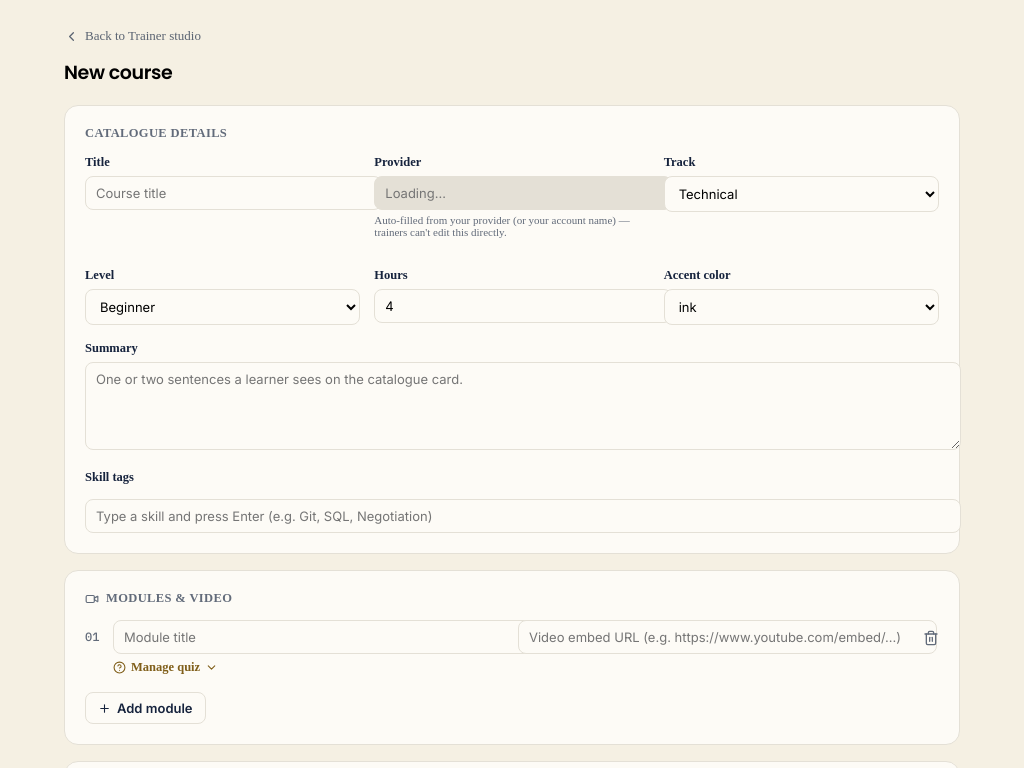
Test: TrainerCourseEditor — skills tag input › adds a skill chip on Enter and clears the input
Expected: the field with placeholder "Course title" is shown, [85,176,382,210]
Type "SQL" into the field with placeholder "Type a skill and press Enter (e.g. Git, SQL, Negotiation)" at x=523, y=516, box [85,499,961,533]
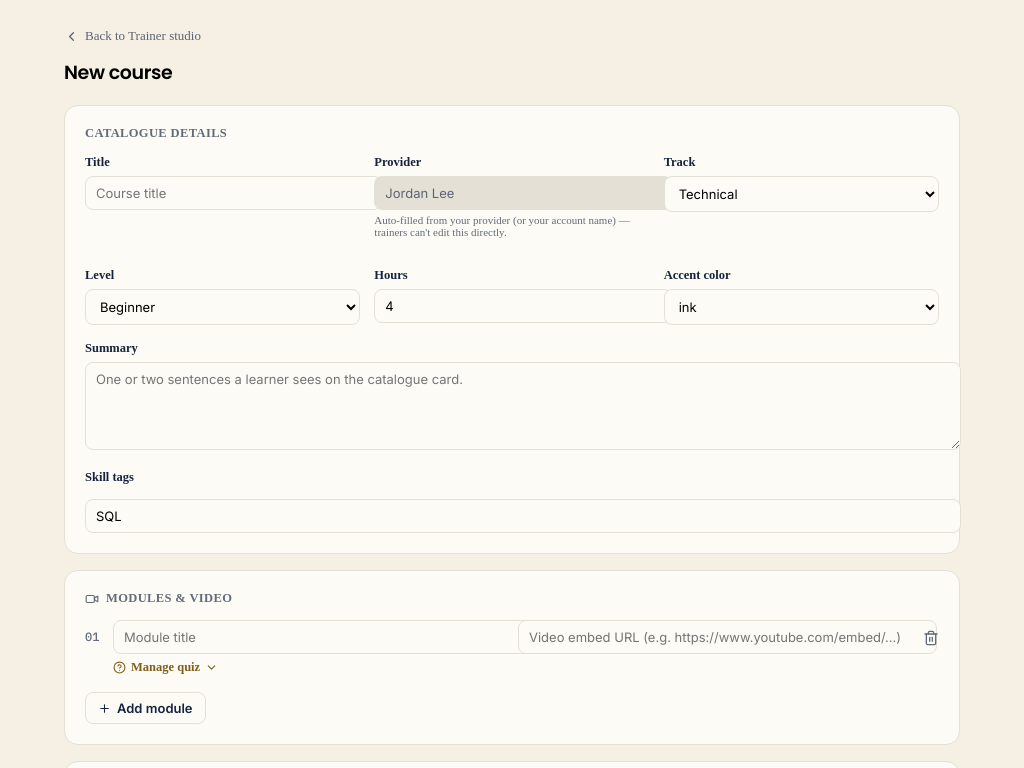
Press Enter in the field with placeholder "Type a skill and press Enter (e.g. Git, SQL, Negotiation)" below "Skill tags", box [85,499,961,533]
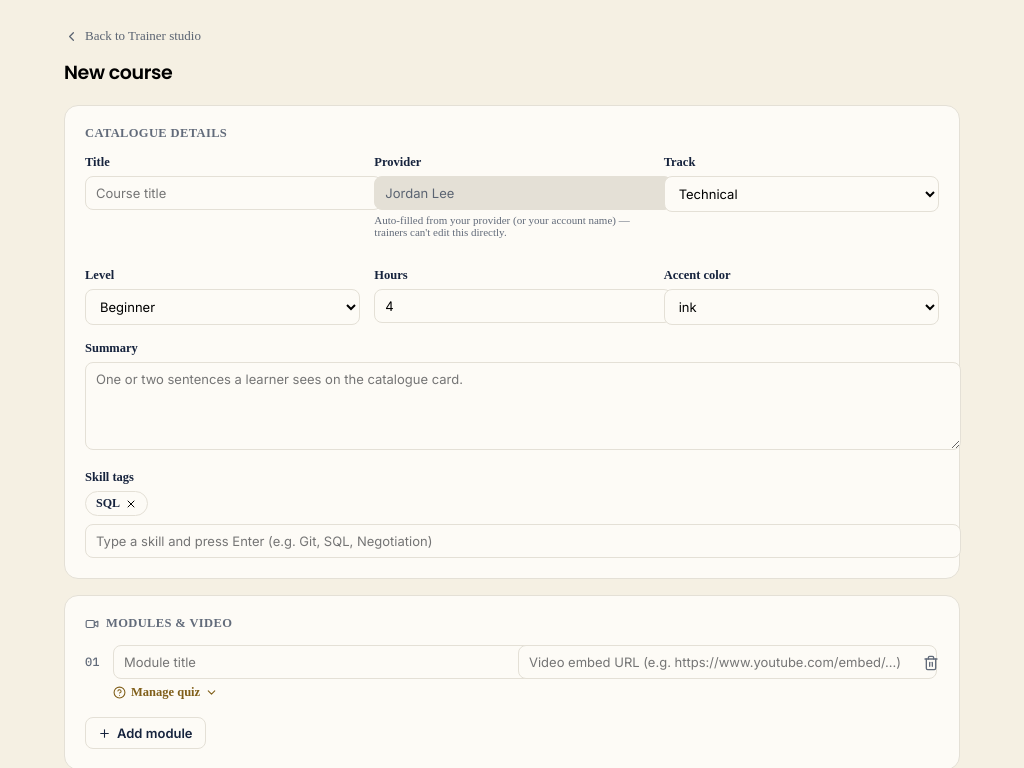
Expected: the text "SQL" is shown, [96,496,120,511]
Expected: the field with placeholder "Type a skill and press Enter (e.g. Git, SQL, Negotiation)" is empty, [85,524,961,558]
